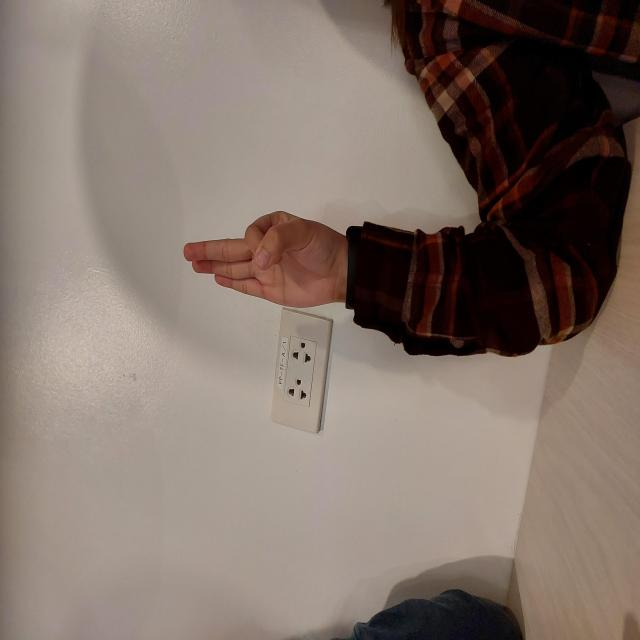F: (330, 181, 434, 353)
